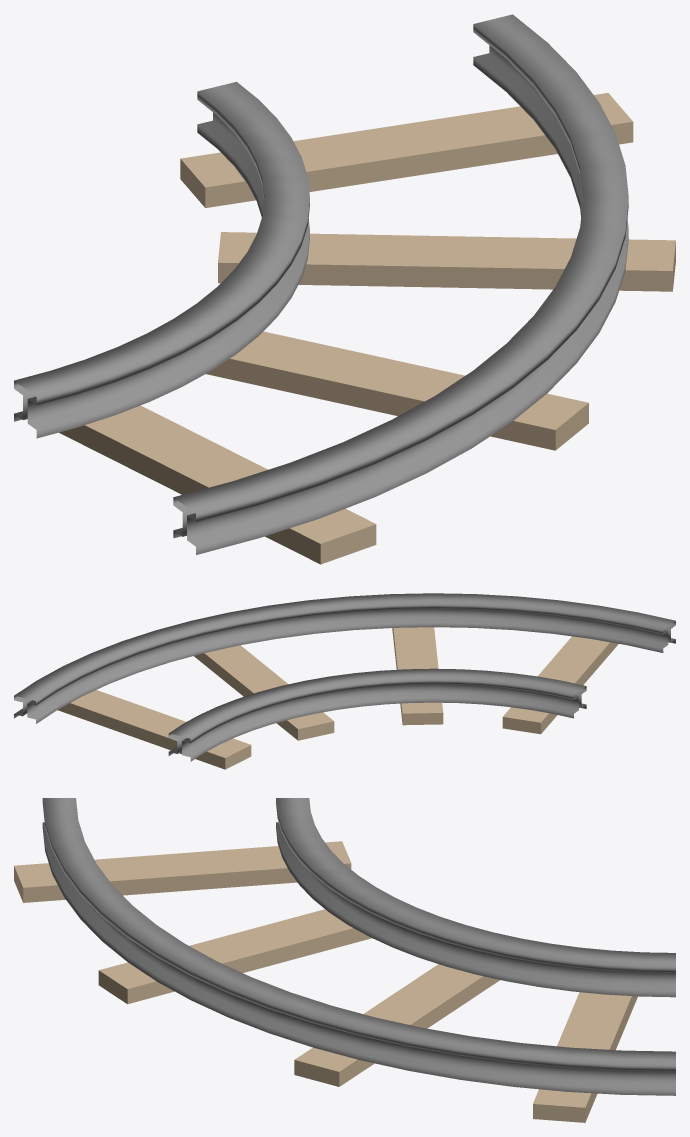
Rendered from mine_track_curve.dae.
The picture shows the model from 3 angles, top to bottom: view 1: azimuth 30°, elevation 25°; view 2: azimuth 150°, elevation 25°; view 3: azimuth 270°, elevation 25°; orthographic projection. The views are drawn at different scales.
Parts seen in each view (by area): view 1: TrackCurve; view 2: TrackCurve; view 3: TrackCurve.
Boxes of the visible parts, bbox=[...] form: TrackCurve: bbox=[14, 14, 675, 564]; TrackCurve: bbox=[14, 593, 675, 769]; TrackCurve: bbox=[14, 798, 675, 1122].
Bounding box in the file's own units: 1.99 × 1.99 × 0.15.
